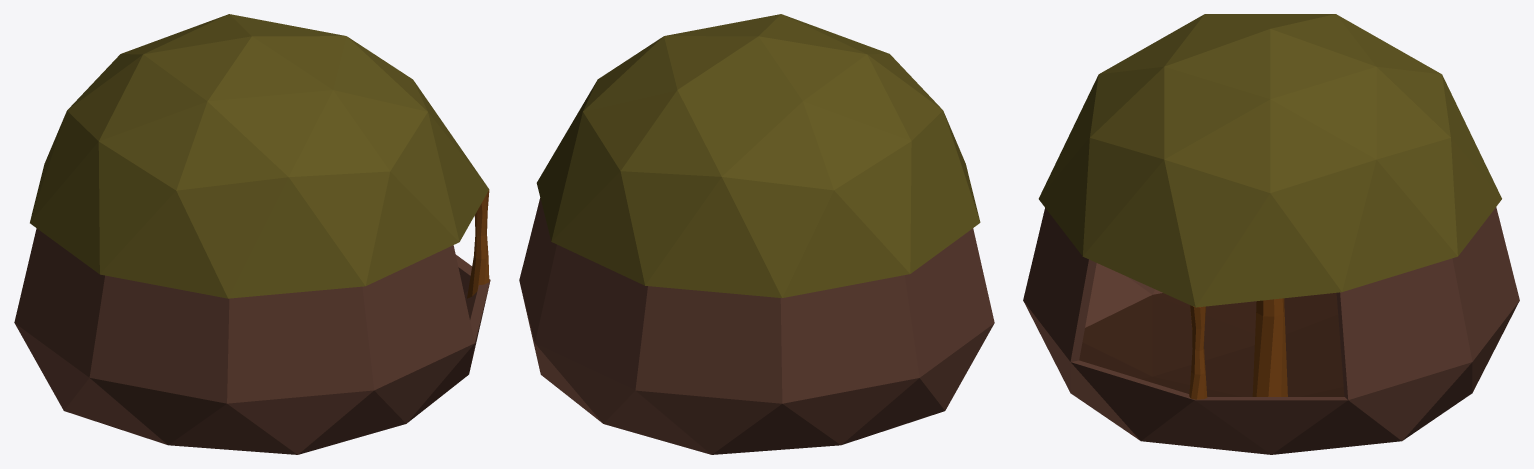
The model's file is forest_people_house_10.fbx.
The picture shows the model from 3 angles, left to right: view 1: azimuth 30°, elevation 25°; view 2: azimuth 150°, elevation 25°; view 3: azimuth 270°, elevation 25°; orthographic projection. The views are drawn at different scales.
Parts seen in each view (by area): view 1: Icosphere, Cylinder.001; view 2: Icosphere; view 3: Icosphere, Cylinder, Cylinder.001.
Boxes of the visible parts, x1,y1,x2,y2 form: Icosphere: [14, 14, 490, 454]; Cylinder.001: [467, 190, 489, 298]; Icosphere: [519, 14, 994, 454]; Icosphere: [1023, 14, 1519, 454]; Cylinder: [1252, 298, 1287, 396]; Cylinder.001: [1189, 305, 1207, 399].
Bounding box in the file's own units: 1113 × 980 × 1171.
